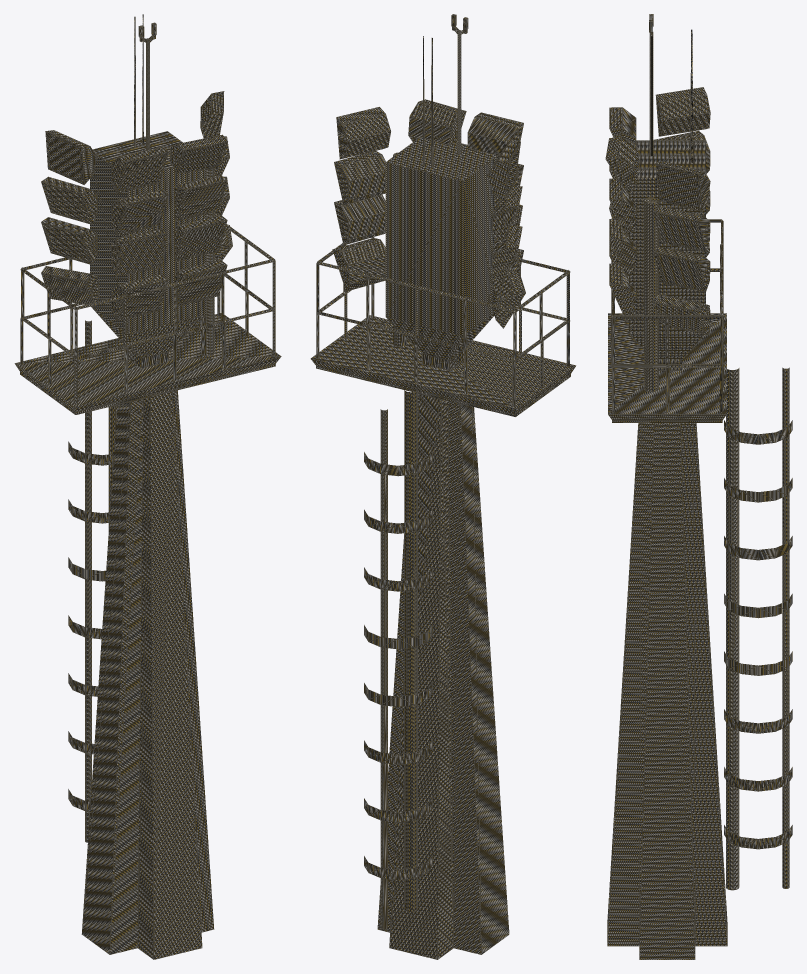
File: POSTE_LUZ_SBPA.gltf
3 views of the same model, side by side, from view 1: azimuth 30°, elevation 25°; view 2: azimuth 150°, elevation 25°; view 3: azimuth 270°, elevation 25° (orthographic).
Visible parts, largest first — view 1: node1; view 2: node1; view 3: node1.
Boxes of the visible parts, x1,y1,x2,y2 form: node1: [14, 14, 281, 959]; node1: [310, 14, 576, 959]; node1: [605, 14, 792, 959].
Size of the model in its own units: 3.12 by 13.13 by 2.44.
